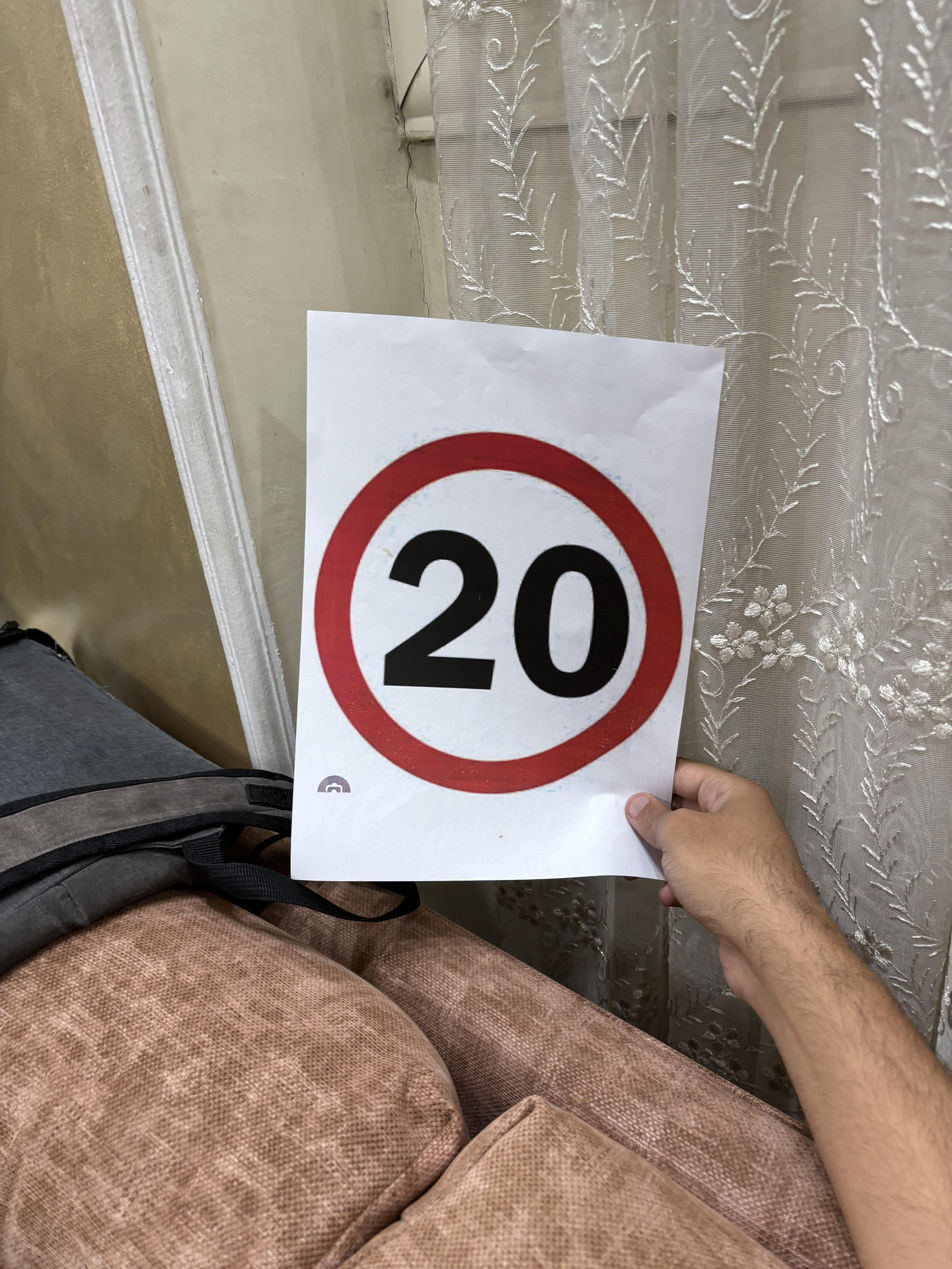20-Speed: (305, 425, 687, 785)
